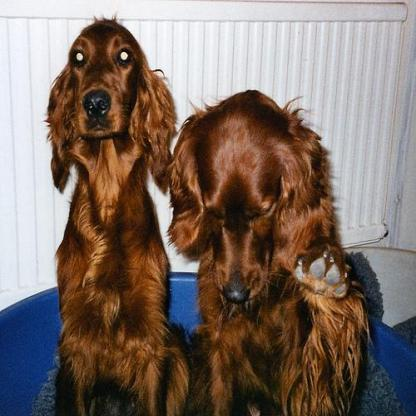Irish_setter: (166, 88, 374, 413), (37, 10, 187, 414)
